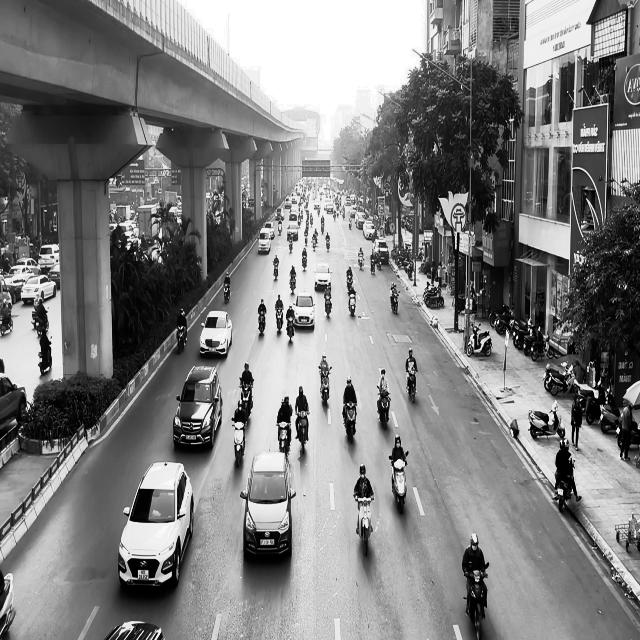car: (118, 460, 195, 589), (240, 449, 296, 558), (173, 365, 223, 449), (0, 372, 28, 435), (200, 310, 232, 357), (292, 291, 316, 329), (314, 263, 332, 289)
motorbike: (464, 562, 489, 639), (354, 493, 375, 556), (389, 452, 409, 514), (555, 458, 576, 513), (467, 322, 492, 357), (232, 418, 248, 467), (343, 401, 358, 443), (377, 386, 391, 430), (296, 410, 310, 454), (240, 380, 254, 422), (38, 336, 53, 375), (276, 420, 292, 456), (320, 366, 332, 404), (406, 368, 418, 403), (177, 324, 187, 353), (348, 288, 357, 315), (258, 309, 267, 335), (286, 316, 295, 342), (391, 289, 400, 314), (324, 292, 332, 318), (289, 271, 297, 294), (276, 308, 284, 331), (223, 282, 230, 304), (273, 259, 280, 280), (358, 253, 364, 270)
